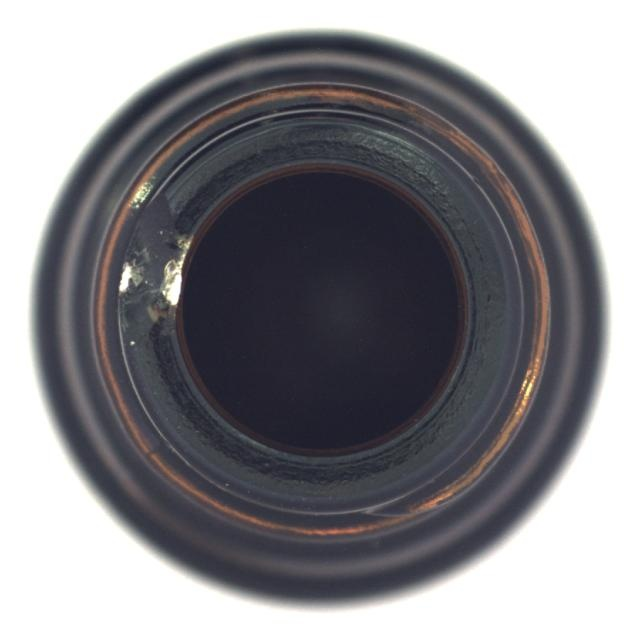bad-broken_small: (29, 27, 611, 613)
